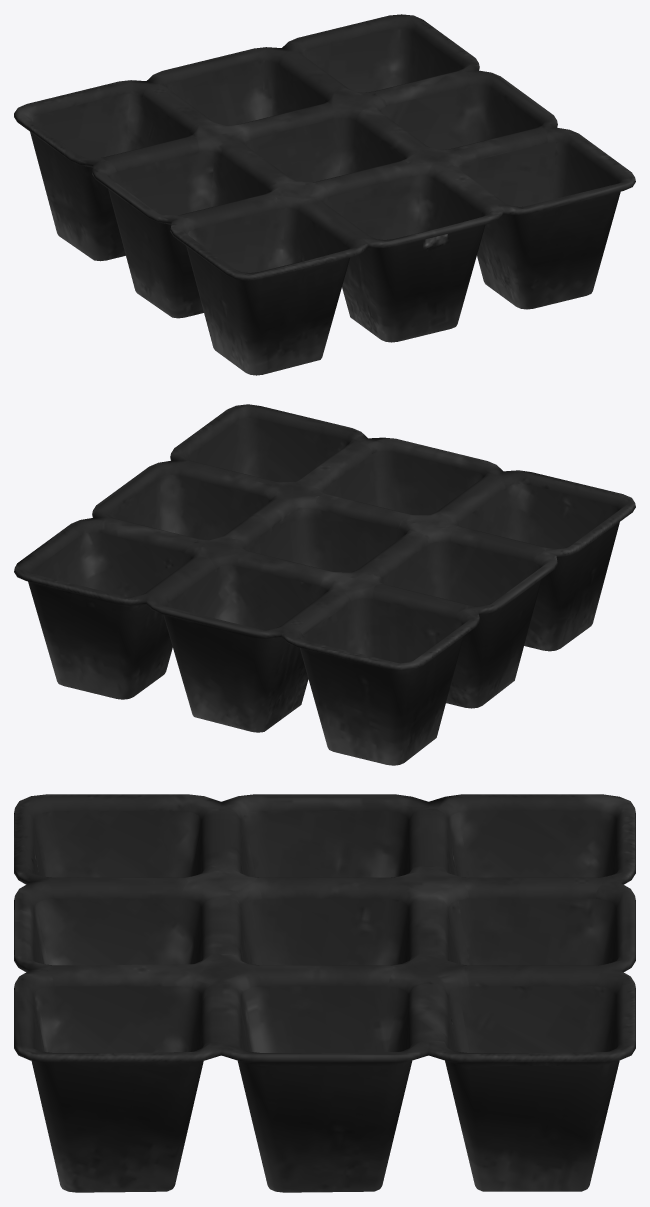
The model's file is seeding_tray_01.glb.
The picture shows the model from 3 angles, top to bottom: view 1: azimuth 30°, elevation 25°; view 2: azimuth 150°, elevation 25°; view 3: azimuth 270°, elevation 25°; orthographic projection. The views are drawn at different scales.
Parts seen in each view (by area): view 1: seeding_tray_01; view 2: seeding_tray_01; view 3: seeding_tray_01.
Part boxes in pixels (left/top/right/bottom): seeding_tray_01: left=14, top=14, right=635, bottom=375; seeding_tray_01: left=14, top=404, right=635, bottom=765; seeding_tray_01: left=14, top=794, right=635, bottom=1192.
Bounding box in the file's own units: 0.2202 × 0.0608 × 0.2202.
1 material, 1 textured.
